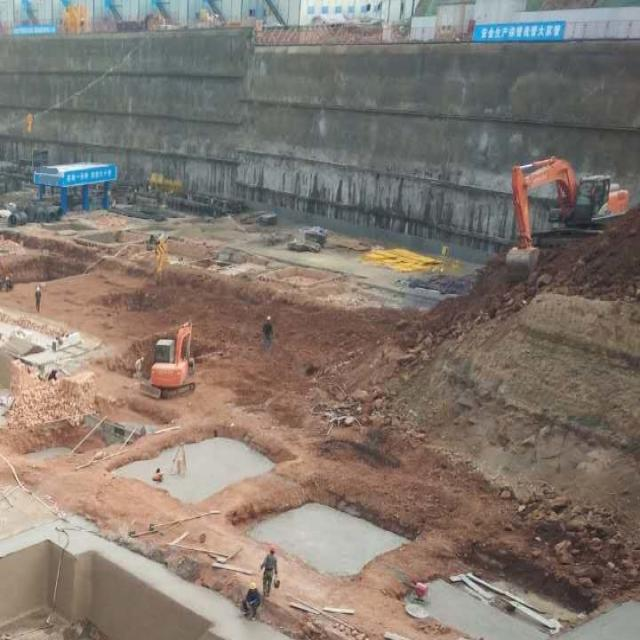excavator: (504, 155, 628, 280), (139, 318, 197, 398)
